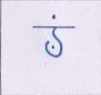anusvara: (52, 15, 56, 18)
